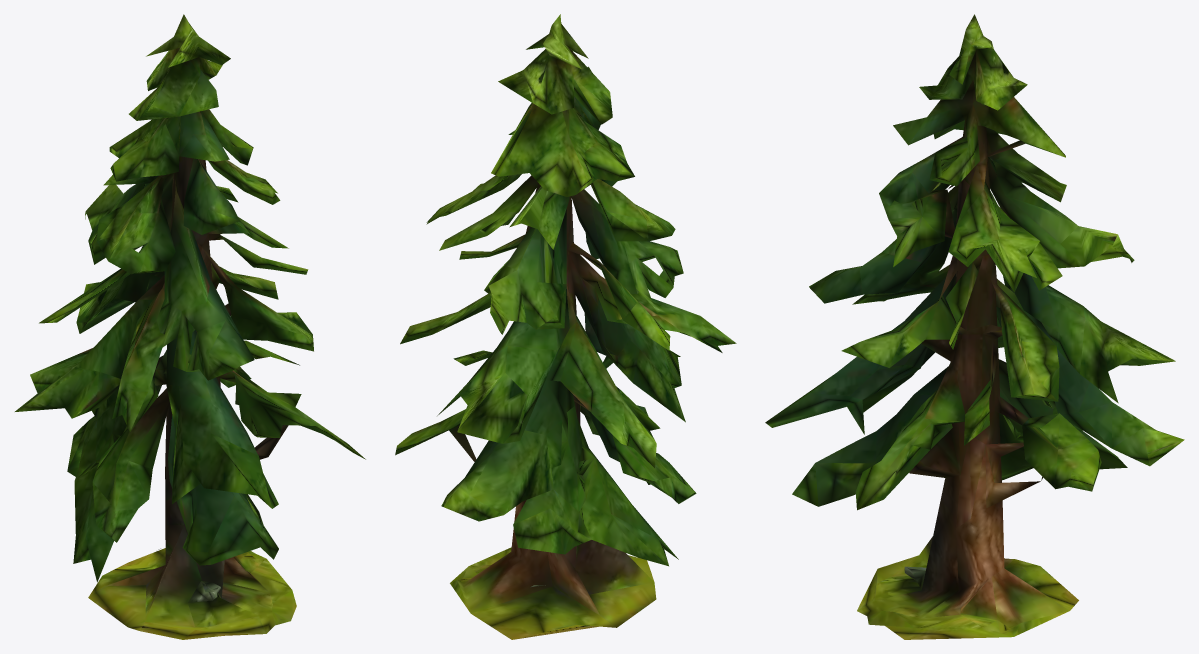
File: w_pine.glb
The picture shows the model from 3 angles, left to right: view 1: azimuth 30°, elevation 25°; view 2: azimuth 150°, elevation 25°; view 3: azimuth 270°, elevation 25°; orthographic projection.
Parts seen in each view (by area): view 1: tripo_node_8b1c13a5-2bb0-4f31-ba7f-eb3566c0095e; view 2: tripo_node_8b1c13a5-2bb0-4f31-ba7f-eb3566c0095e; view 3: tripo_node_8b1c13a5-2bb0-4f31-ba7f-eb3566c0095e.
Part boxes in pixels (bbox=[...]): tripo_node_8b1c13a5-2bb0-4f31-ba7f-eb3566c0095e: bbox=[15, 14, 365, 639]; tripo_node_8b1c13a5-2bb0-4f31-ba7f-eb3566c0095e: bbox=[395, 14, 736, 639]; tripo_node_8b1c13a5-2bb0-4f31-ba7f-eb3566c0095e: bbox=[765, 14, 1184, 639].
Bounding box in the file's own units: 0.4408 × 0.9638 × 0.6226.
1 material, 1 textured.
